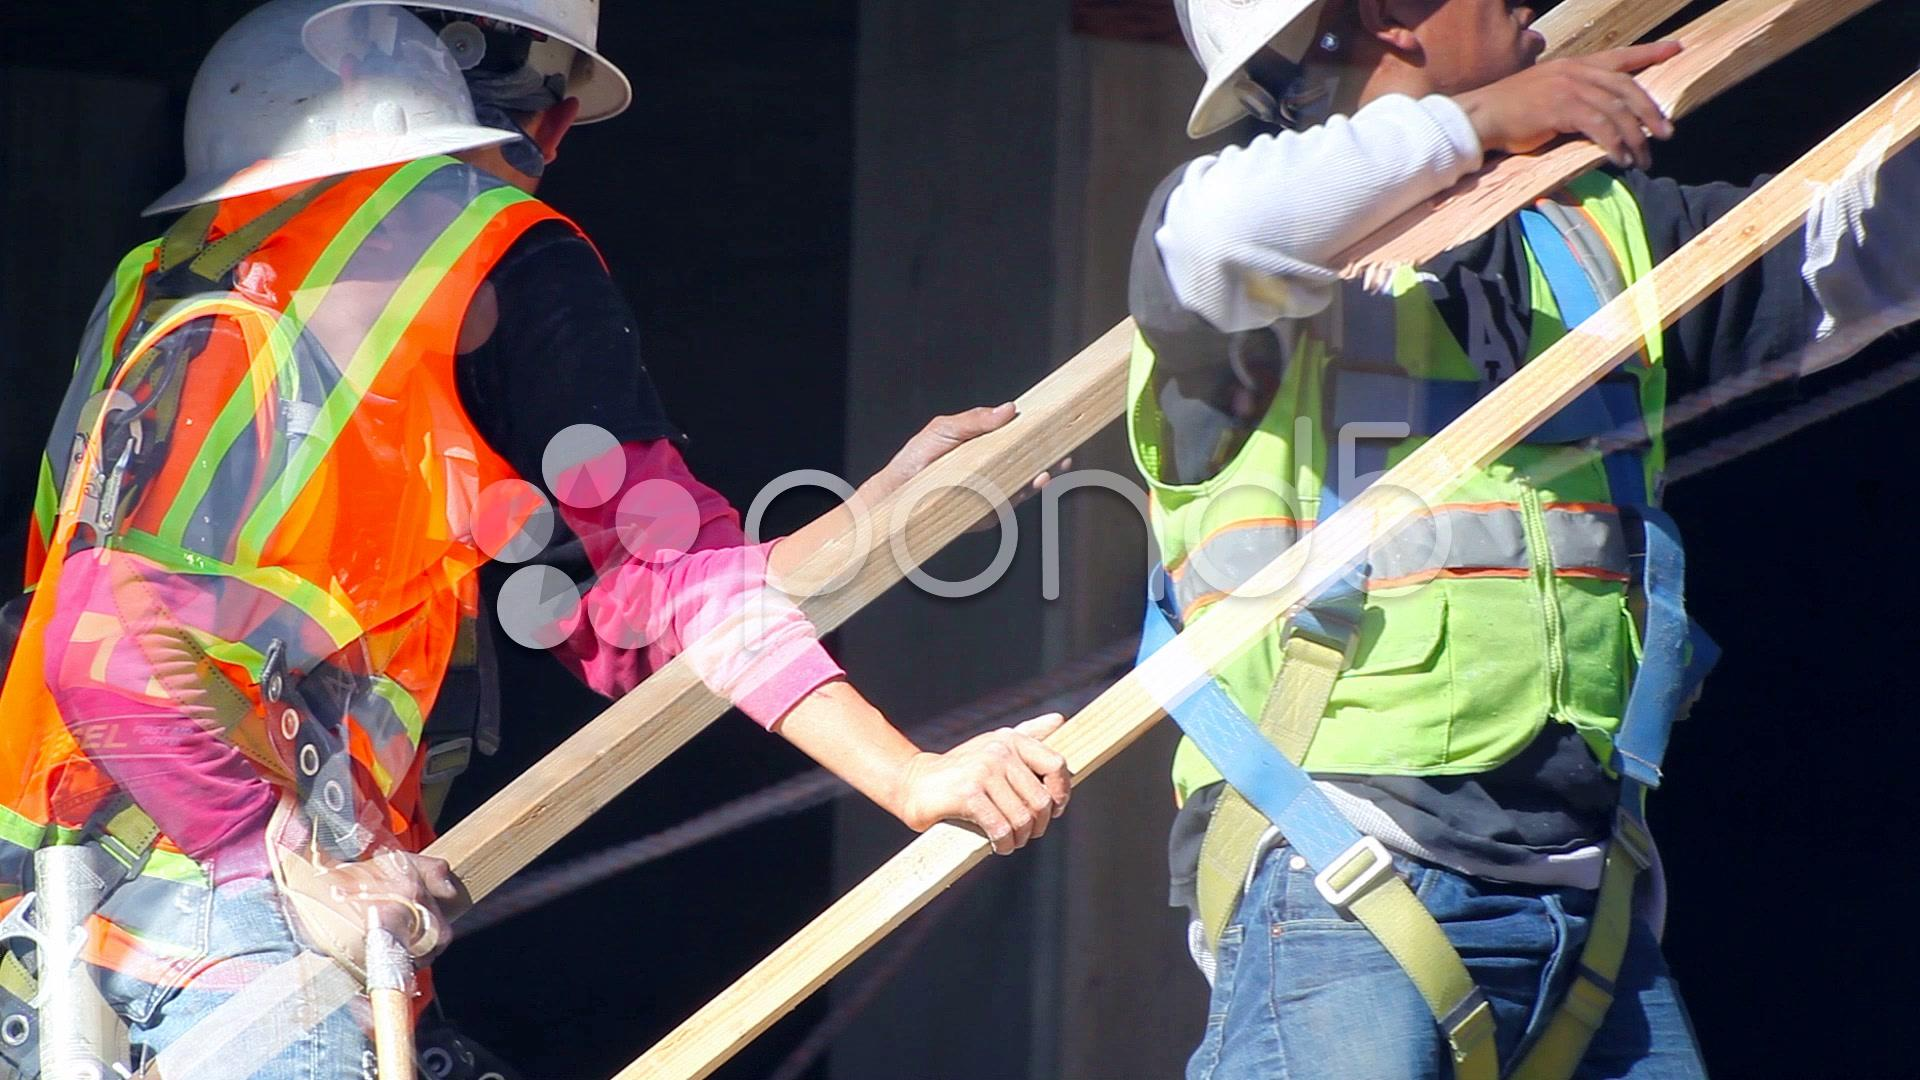hat: (138, 1, 504, 328), (1058, 1, 1614, 208), (278, 1, 680, 208)
vest: (1112, 164, 1760, 938), (194, 158, 717, 804), (1, 248, 272, 891)
